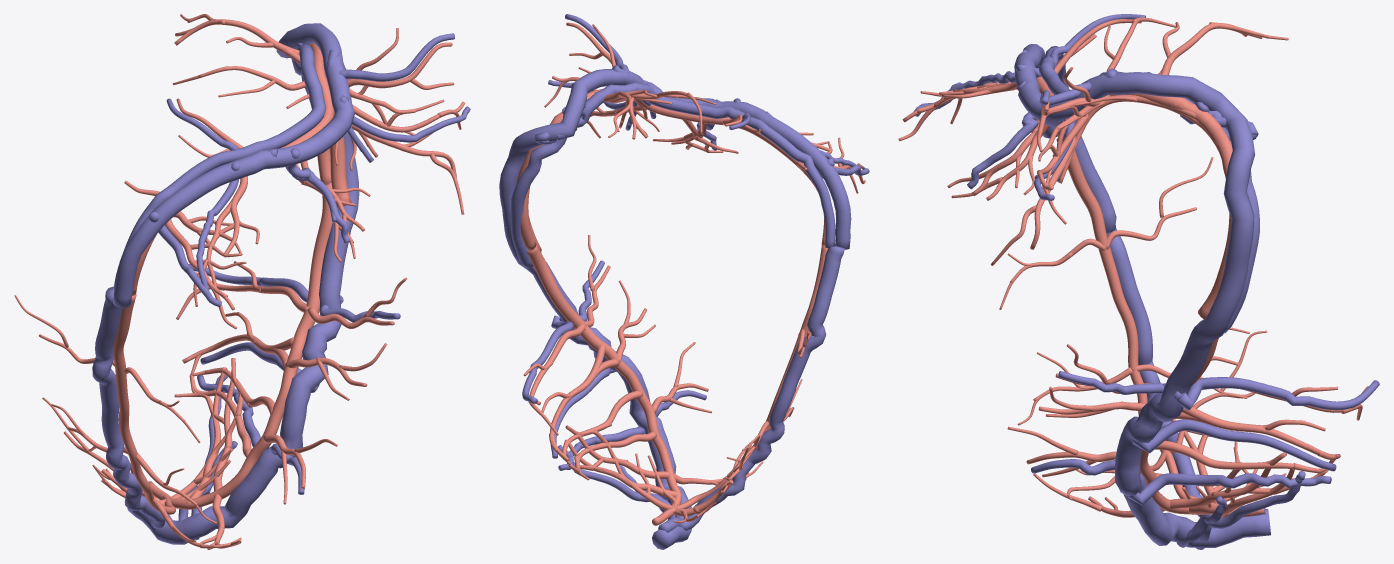
The model's file is vessels_6.glb.
3 renders of one model, left to right at view 1: azimuth 30°, elevation 25°; view 2: azimuth 150°, elevation 25°; view 3: azimuth 270°, elevation 25°, orthographic. The views are drawn at different scales.
Visible parts, largest first — view 1: Renderer Node; view 2: Renderer Node; view 3: Renderer Node.
Boxes of the visible parts, bbox=[...] form: Renderer Node: bbox=[14, 14, 470, 549]; Renderer Node: bbox=[499, 14, 869, 549]; Renderer Node: bbox=[898, 14, 1379, 549].
Size of the model in its own units: 95.55 by 124 by 95.47.
